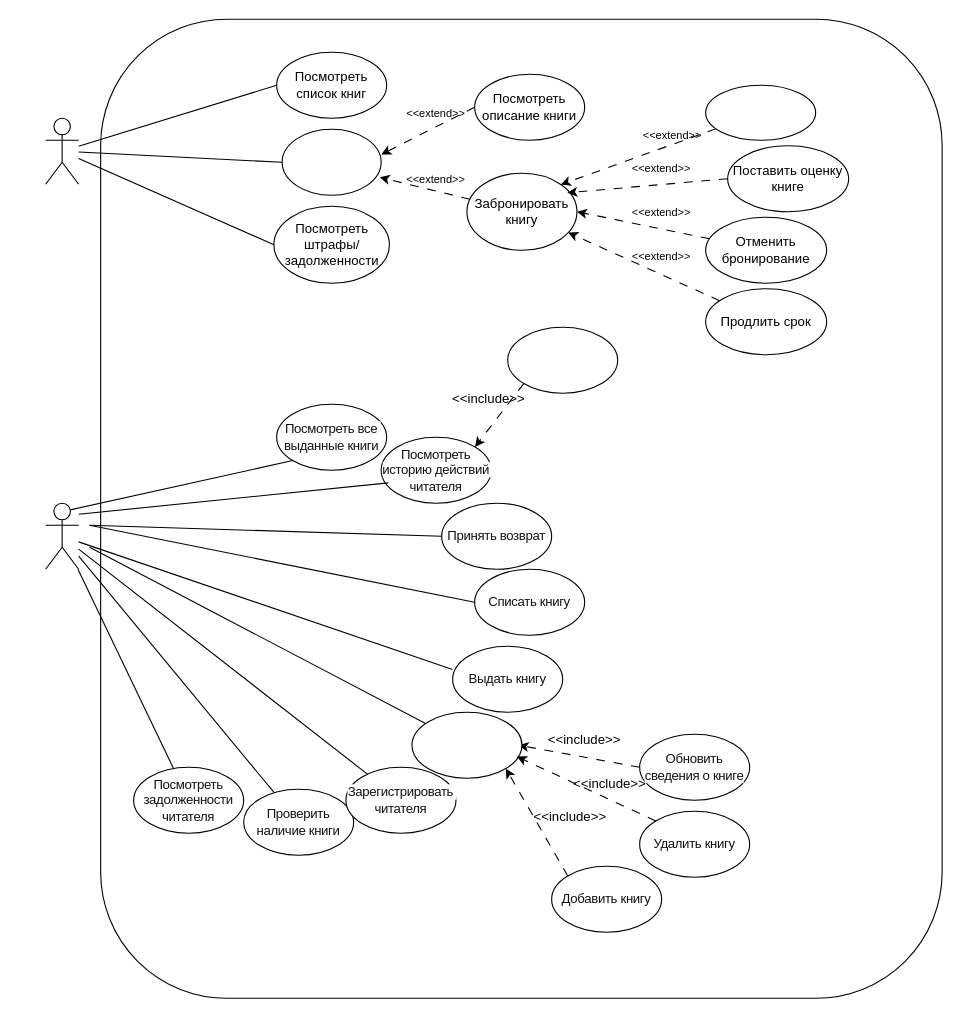
Some shapes in this 961 by 1018 pixel diagram are drawn without their labels. Here are the shapes that lost their labels. From the top down, the centre of each, then its label:
At [760,112]: "Оставить отзыв о книге".
At [62,150]: "Читатель".
At [331,161]: "Найти книгу".
At [562,359]: "Посмотреть список выданных книг".
At [62,535]: "Библиотекарь".
At [466,744]: "Управлять фондом".
